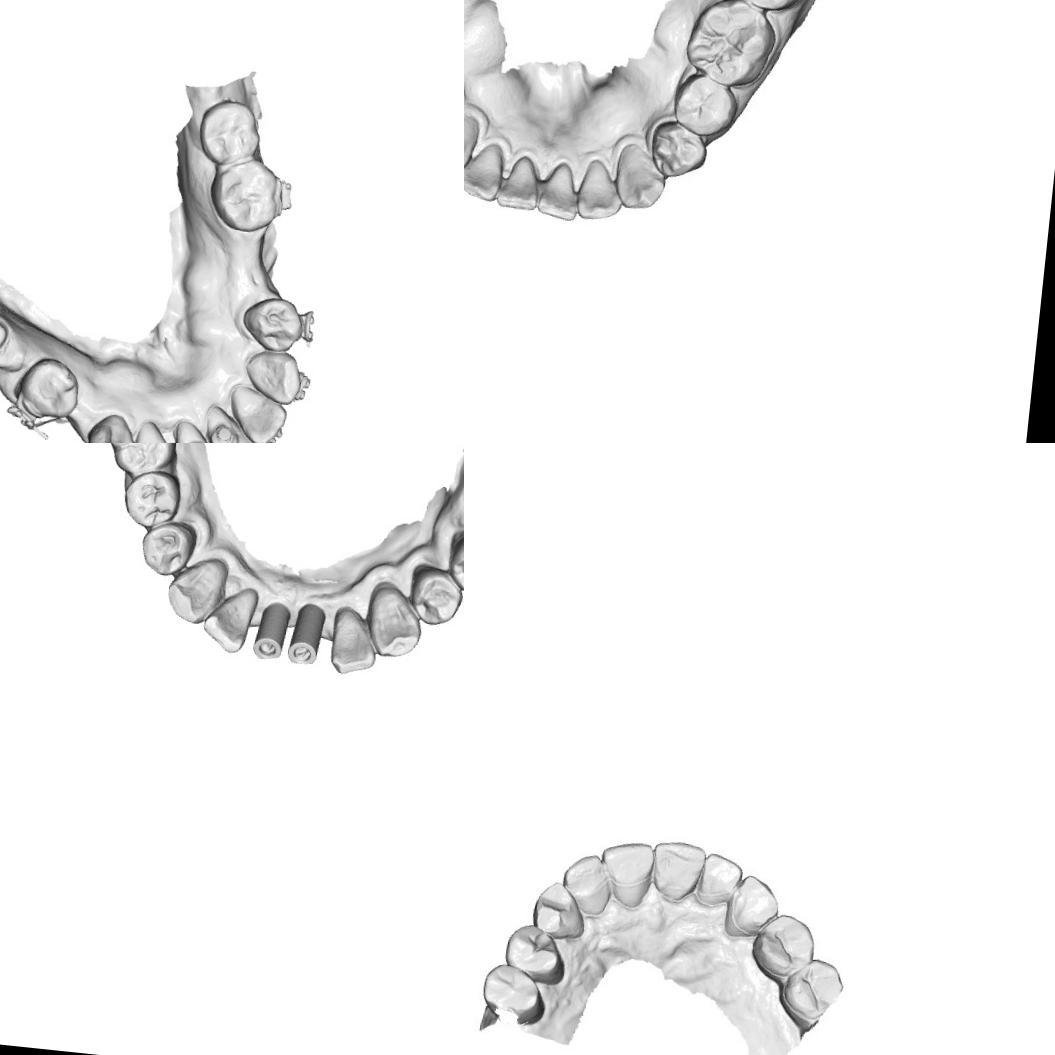abutment: (0, 313, 12, 362)
canine: (162, 558, 231, 627), (365, 588, 424, 662), (725, 872, 786, 942), (615, 145, 672, 216), (243, 350, 305, 408), (528, 877, 586, 938), (82, 411, 140, 443), (464, 108, 484, 181)
implant: (284, 598, 326, 671), (252, 598, 294, 664)
incisor: (199, 582, 261, 656), (324, 604, 384, 677), (594, 836, 654, 909), (648, 835, 706, 904), (571, 154, 627, 225), (227, 381, 291, 443), (557, 850, 615, 916), (535, 158, 583, 223), (495, 152, 543, 214), (464, 137, 506, 203), (698, 852, 746, 908), (203, 409, 267, 443), (132, 418, 188, 443), (174, 426, 226, 443)
molar: (680, 0, 781, 92), (204, 154, 282, 236), (194, 95, 265, 169), (107, 443, 184, 481)
premolar: (778, 957, 853, 1030), (744, 910, 819, 982), (669, 70, 742, 142), (15, 354, 86, 424), (498, 921, 568, 986), (478, 963, 547, 1026), (403, 558, 464, 629), (238, 290, 303, 356), (120, 466, 184, 533), (136, 515, 201, 580), (646, 118, 712, 182), (445, 527, 464, 596)
